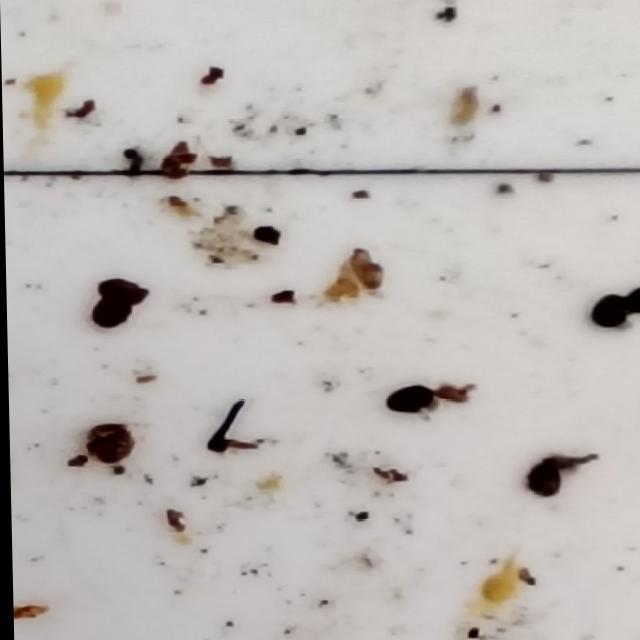varroa: (521, 460, 562, 500), (381, 385, 435, 415), (90, 295, 132, 330), (96, 277, 146, 302), (591, 295, 624, 330), (623, 283, 640, 315)
